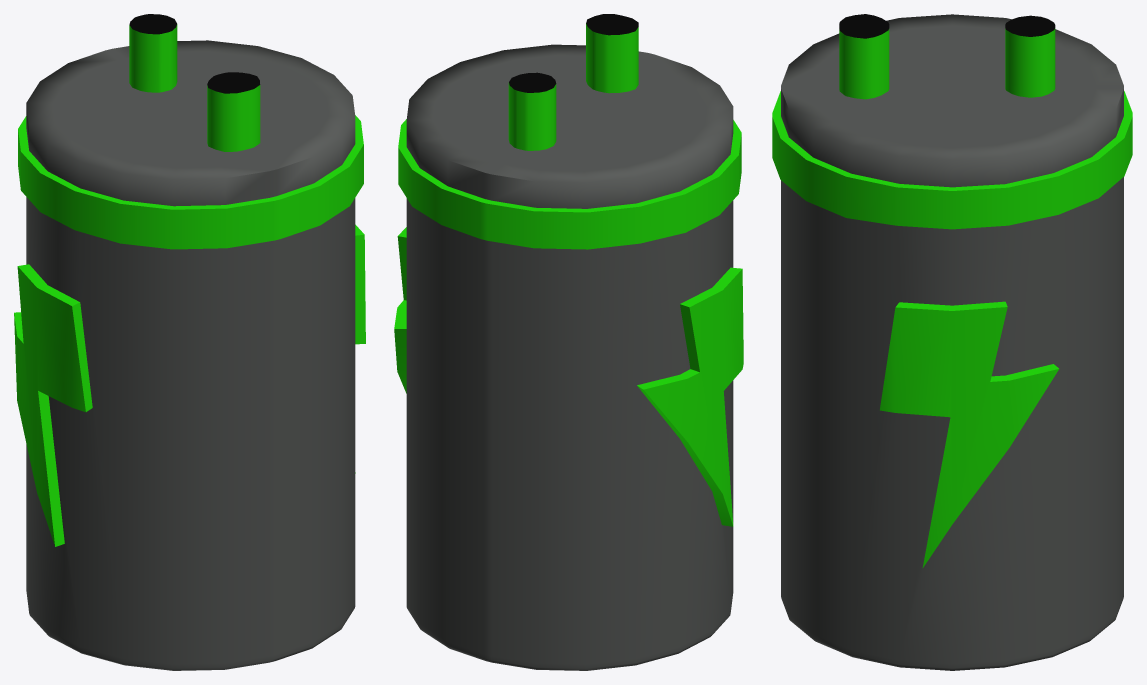
File: Battery.fbx
The picture shows the model from 3 angles, left to right: view 1: azimuth 30°, elevation 25°; view 2: azimuth 150°, elevation 25°; view 3: azimuth 270°, elevation 25°; orthographic projection. The views are drawn at different scales.
Parts seen in each view (by area): view 1: pCylinder3; view 2: pCylinder3; view 3: pCylinder3.
Part boxes in pixels (x1=…): pCylinder3: x1=14, y1=14, x2=365, y2=670; pCylinder3: x1=394, y1=14, x2=743, y2=670; pCylinder3: x1=772, y1=14, x2=1132, y2=670.
Bounding box in the file's own units: 2.15 × 3.68 × 2.09.
